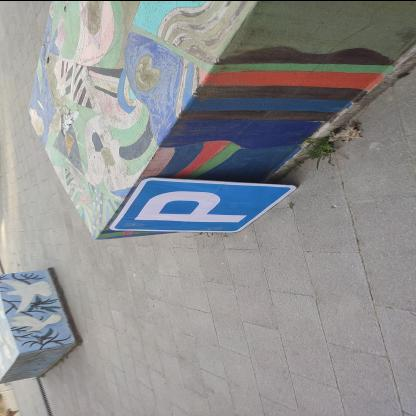Parking-Sign: (108, 177, 301, 232)
